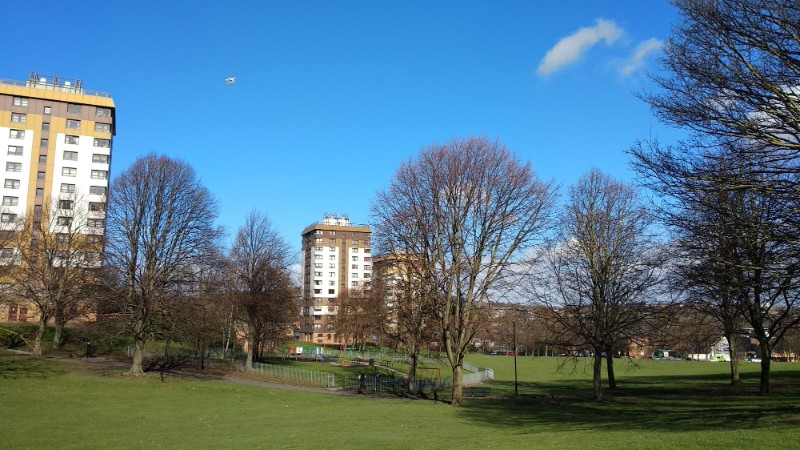drone: (224, 74, 237, 84)
